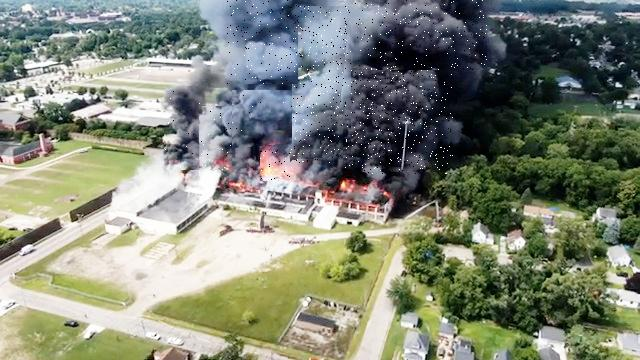fire: (261, 149, 293, 181)
smoke: (344, 69, 454, 175), (292, 7, 351, 164), (355, 0, 487, 70), (227, 0, 298, 84), (232, 91, 292, 151), (165, 86, 202, 170), (202, 106, 235, 170)
